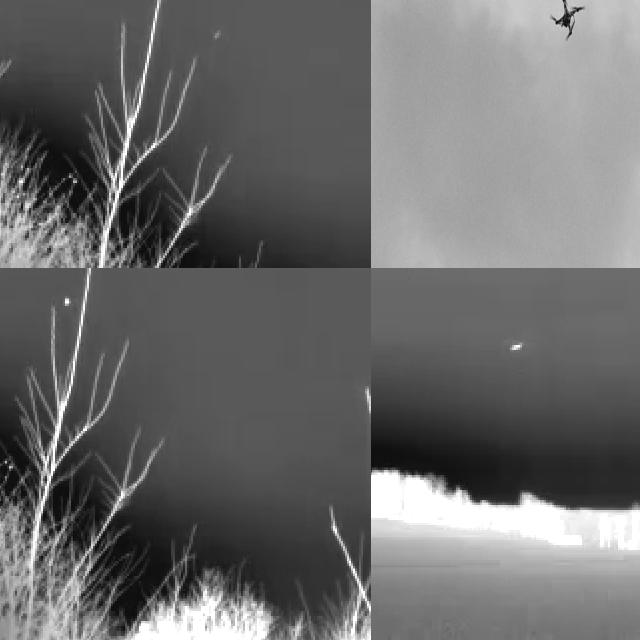0: (207, 20, 229, 50), (58, 291, 78, 313)
1: (499, 335, 533, 365)
drone: (545, 0, 585, 38)
